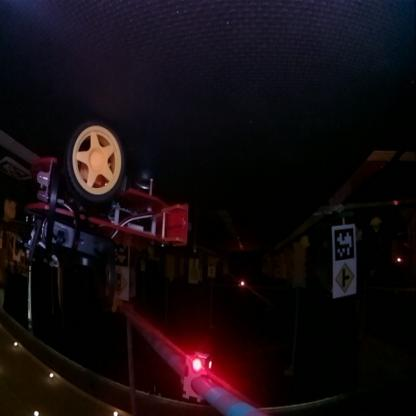Duckie: (370, 219, 381, 233), (299, 236, 309, 248)
Duckiebot: (23, 130, 188, 274)
Intersection sign: (332, 263, 356, 299)
QR code: (331, 224, 355, 256), (0, 158, 31, 180), (114, 246, 130, 268)
Traffic light: (180, 354, 209, 402)
